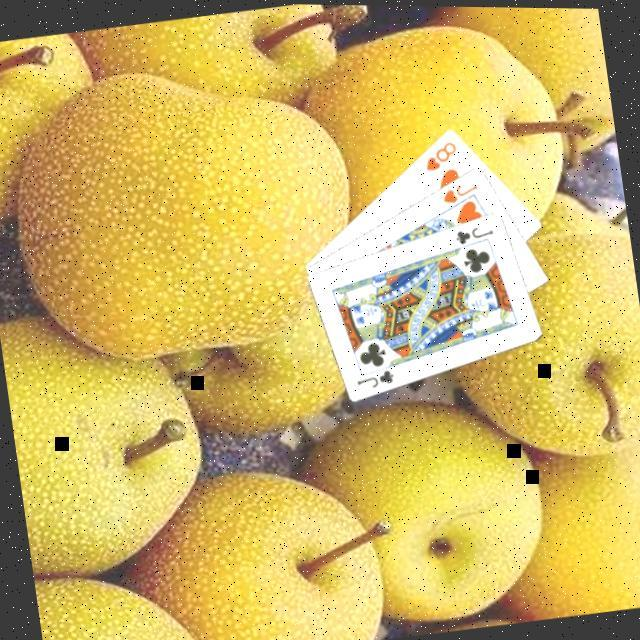8H: (420, 134, 463, 174)
JC: (353, 362, 400, 391), (453, 218, 499, 246)
JH: (438, 175, 483, 206)
